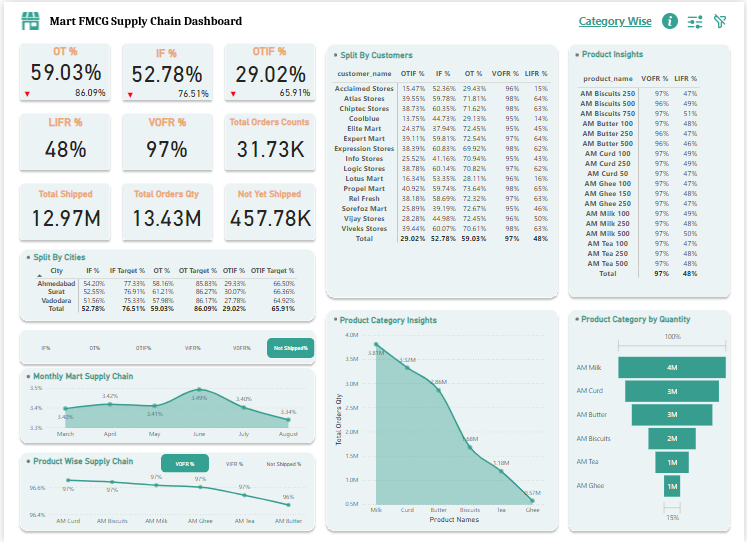

This screenshot's page, from the dashboard's own definition file:
{"tool":"powerbi","page":{"name":"Dashboard","canvas":[1480,1080],"ordinal":0},"visuals":[{"type":"card","fields":{"Values":["fact_order_lines.LIFR"]},"box":[33.6,251.4,178.6,72.9],"z":0},{"type":"card","fields":{"Values":["fact_order_lines.VOFR"]},"box":[236.4,251.4,178.6,72.9],"z":1000},{"type":"card","title":"OT %","fields":{"Values":["fact_orders_aggregate.On Time Delivery %"]},"box":[33.5,98,178.5,73.5],"z":2000},{"type":"card","fields":{"Values":["fact_orders_aggregate.In Full Delivery %"]},"box":[236.5,102.5,178,73],"z":3000},{"type":"card","fields":{"Values":["fact_orders_aggregate.OTIF %"]},"box":[444,102.5,178.5,73],"z":4000},{"type":"card","fields":{"Values":["fact_order_lines.Total Orders Shipped"]},"box":[33.6,390.7,178.6,72.9],"z":5000},{"type":"card","fields":{"Values":["fact_order_lines.Total Orders Qty"]},"box":[236.4,390.7,177.9,72.9],"z":6000},{"type":"card","fields":{"Values":["fact_order_lines.Not Yet Shipped"]},"box":[444.3,390.7,178.6,72.9],"z":7000},{"type":"card","fields":{"Values":["fact_orders_aggregate.Total Orders"]},"box":[444.3,251.4,178.6,72.9],"z":8000},{"type":"card","title":"OT %","fields":{"Values":["dim_targets_orders.On Time Target"]},"box":[135,166.5,73,27],"z":9000},{"type":"card","fields":{"Values":["dim_targets_orders.Trend"]},"box":[37.5,175.5,17,15],"z":10000},{"type":"card","title":"OT %","fields":{"Values":["dim_targets_orders.In Full Target"]},"box":[342,169.5,72.5,26.5],"z":11000},{"type":"card","fields":{"Values":["dim_targets_orders.Trend IF"]},"box":[243.5,177,16.5,15],"z":12000},{"type":"card","title":"OT %","fields":{"Values":["dim_targets_orders.On Time In Full Target"]},"box":[543,165,75,27],"z":13000},{"type":"card","fields":{"Values":["dim_targets_orders.Trend OTIF"]},"box":[450.5,176.5,17,15.5],"z":14000},{"type":"pivotTable","fields":{"Rows":["dim_customers.city"],"Values":["fact_orders_aggregate.In Full Delivery %","dim_targets_orders.In Full Target","fact_orders_aggregate.On Time Delivery %","dim_targets_orders.On Time Target","fact_orders_aggregate.OTIF %","dim_targets_orders.On Time In Full Target"]},"box":[56.4,521.4,538.6,115],"z":15000},{"type":"pivotTable","fields":{"Rows":["dim_customers.customer_name"],"Values":["fact_orders_aggregate.OTIF %","fact_orders_aggregate.In Full Delivery %","fact_orders_aggregate.On Time Delivery %","fact_order_lines.VOFR","fact_order_lines.LIFR"]},"box":[650.7,126.4,450.7,395],"z":16000},{"type":"advancedSlicerVisual","fields":{"Values":["Parameter.Parameter"]},"box":[35,671.7,585,40.8],"z":17000},{"type":"lineChart","fields":{"Y":["fact_order_lines.VIFR %"],"Category":["dim_date.date.Variation.Date Hierarchy.Month"]},"box":[45.7,755.7,563.6,125],"z":18000},{"type":"lineChart","fields":{"Y":["fact_order_lines.VOFR %"],"Category":["dim_products.Product"]},"box":[45.8,929.2,563.3,125],"z":19000},{"type":"advancedSlicerVisual","fields":{"Values":["Parameter 2.Parameter"]},"box":[314.5,903.6,294.5,37.3],"z":20000},{"type":"areaChart","fields":{"Category":["dim_products.Product Names"],"Y":["fact_order_lines.Total Orders Qty"]},"box":[656.7,651.1,431.1,395.6],"z":21000},{"type":"funnel","fields":{"Category":["dim_products.Product"],"Y":["fact_order_lines.Total Orders Qty"]},"box":[1140,651.4,313.6,395],"z":22000},{"type":"pivotTable","fields":{"Rows":["dim_products.product_name"],"Values":["fact_order_lines.VOFR","fact_order_lines.LIFR"]},"box":[1141.1,135.6,297.8,432.2],"z":23000},{"type":"actionButton","title":"filter","box":[1361.5,19,41.5,40],"z":24000},{"type":"actionButton","title":"clear all","box":[1411,19,42.5,40],"z":25000},{"type":"actionButton","box":[1312.9,18.8,40.6,40],"z":26000},{"type":"card","fields":{"Values":["Titles.Product Category Insights"]},"box":[670,619.3,202,34.7],"z":26500},{"type":"pageNavigator","box":[1131.4,12.9,181.4,50],"z":29000},{"type":"card","fields":{"Values":["Titles.OT%"]},"box":[33.3,79.2,178.3,37.5],"z":30000},{"type":"card","fields":{"Values":["Titles.IF%"]},"box":[235.8,83.3,178.3,37.5],"z":31000},{"type":"card","fields":{"Values":["Titles.OTIF%"]},"box":[440.8,79.2,178.3,37.5],"z":32000},{"type":"card","fields":{"Values":["Titles.LIFR%"]},"box":[33.3,221.7,178.3,37.5],"z":33000},{"type":"card","fields":{"Values":["Titles.VOFR%"]},"box":[236.7,221.7,178.3,37.5],"z":34000},{"type":"card","fields":{"Values":["Titles.Total Orders Counts"]},"box":[441.7,221.7,178.3,37.5],"z":35000},{"type":"card","fields":{"Values":["Titles.Total Orders Shipped #"]},"box":[33.3,364.2,178.3,37.5],"z":36000},{"type":"card","fields":{"Values":["Titles.Total Orders Qty #"]},"box":[235.8,364.2,178.3,37.5],"z":37000},{"type":"card","fields":{"Values":["Titles.Not Yet Shipped#"]},"box":[441.7,364.2,178.3,37.5],"z":38000},{"type":"card","fields":{"Values":["Titles.Split By Cities"]},"box":[23.3,490.8,178.3,37.5],"z":39000},{"type":"card","fields":{"Values":["Titles.Monthly Mart Supply Chain"]},"box":[56.7,729.2,205.8,37.5],"z":40000},{"type":"card","fields":{"Values":["Titles.Product Wise Supply Chain"]},"box":[56.7,899.2,205.8,37.5],"z":41000},{"type":"card","fields":{"Values":["Titles.Split By Customers"]},"box":[670,86.2,155,36.2],"z":42000},{"type":"card","fields":{"Values":["Titles.Product Insights"]},"box":[1150,87.3,139.3,34.7],"z":43000},{"type":"card","fields":{"Values":["Titles.Product Category by Quantity"]},"box":[1150,618,232,34.7],"z":44000}]}

Visuals, with their boxes in screenshot pixels (x1, y1, x2, y2), scaled from the page's 1480x1080 canvas onto the 747x542 screenshot:
card - fact_order_lines.LIFR: BBox(17, 126, 107, 163)
card - fact_order_lines.VOFR: BBox(119, 126, 209, 163)
"OT %" card: BBox(17, 49, 107, 86)
card - fact_orders_aggregate.In Full Delivery %: BBox(119, 51, 209, 88)
card - fact_orders_aggregate.OTIF %: BBox(224, 51, 314, 88)
card - fact_order_lines.Total Orders Shipped: BBox(17, 196, 107, 233)
card - fact_order_lines.Total Orders Qty: BBox(119, 196, 209, 233)
card - fact_order_lines.Not Yet Shipped: BBox(224, 196, 314, 233)
card - fact_orders_aggregate.Total Orders: BBox(224, 126, 314, 163)
"OT %" card: BBox(68, 84, 105, 97)
card - dim_targets_orders.Trend: BBox(19, 88, 28, 96)
"OT %" card: BBox(173, 85, 209, 98)
card - dim_targets_orders.Trend IF: BBox(123, 89, 131, 96)
"OT %" card: BBox(274, 83, 312, 96)
card - dim_targets_orders.Trend OTIF: BBox(227, 89, 236, 96)
pivotTable - dim_customers.city x fact_orders_aggregate.In Full Delivery %: BBox(28, 262, 300, 319)
pivotTable - dim_customers.customer_name x fact_orders_aggregate.OTIF %: BBox(328, 63, 556, 262)
advancedSlicerVisual - Parameter.Parameter: BBox(18, 337, 313, 358)
lineChart - fact_order_lines.VIFR % x dim_date.date.Variation.Date Hierarchy.Month: BBox(23, 379, 308, 442)
lineChart - fact_order_lines.VOFR % x dim_products.Product: BBox(23, 466, 307, 529)
advancedSlicerVisual - Parameter 2.Parameter: BBox(159, 453, 307, 472)
areaChart - dim_products.Product Names x fact_order_lines.Total Orders Qty: BBox(331, 327, 549, 525)
funnel - dim_products.Product x fact_order_lines.Total Orders Qty: BBox(575, 327, 734, 525)
pivotTable - dim_products.product_name x fact_order_lines.VOFR: BBox(576, 68, 726, 285)
"filter" actionButton: BBox(687, 10, 708, 30)
"clear all" actionButton: BBox(712, 10, 734, 30)
actionButton: BBox(663, 9, 683, 30)
card - Titles.Product Category Insights: BBox(338, 311, 440, 328)
pageNavigator: BBox(571, 6, 663, 32)
card - Titles.OT%: BBox(17, 40, 107, 59)
card - Titles.IF%: BBox(119, 42, 209, 61)
card - Titles.OTIF%: BBox(222, 40, 312, 59)
card - Titles.LIFR%: BBox(17, 111, 107, 130)
card - Titles.VOFR%: BBox(119, 111, 209, 130)
card - Titles.Total Orders Counts: BBox(223, 111, 313, 130)
card - Titles.Total Orders Shipped #: BBox(17, 183, 107, 202)
card - Titles.Total Orders Qty #: BBox(119, 183, 209, 202)
card - Titles.Not Yet Shipped#: BBox(223, 183, 313, 202)
card - Titles.Split By Cities: BBox(12, 246, 102, 265)
card - Titles.Monthly Mart Supply Chain: BBox(29, 366, 132, 385)
card - Titles.Product Wise Supply Chain: BBox(29, 451, 132, 470)
card - Titles.Split By Customers: BBox(338, 43, 416, 61)
card - Titles.Product Insights: BBox(580, 44, 651, 61)
card - Titles.Product Category by Quantity: BBox(580, 310, 698, 328)
